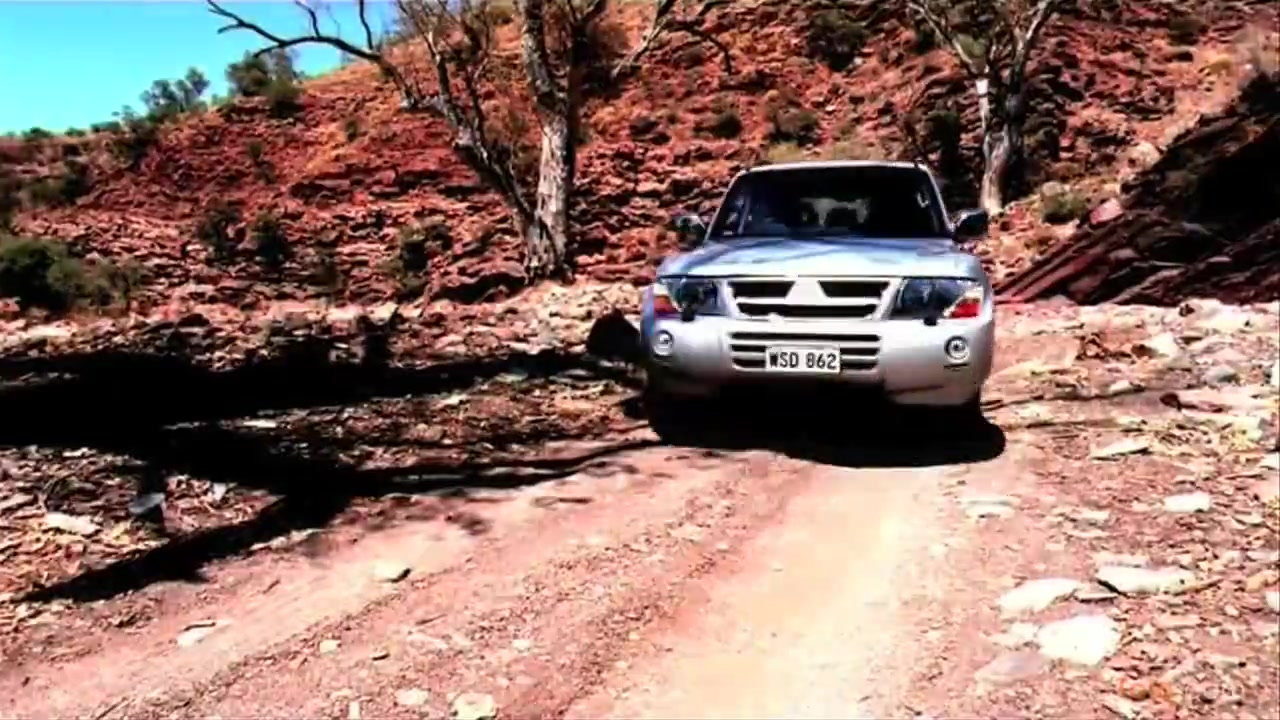car: (638, 160, 997, 417)
